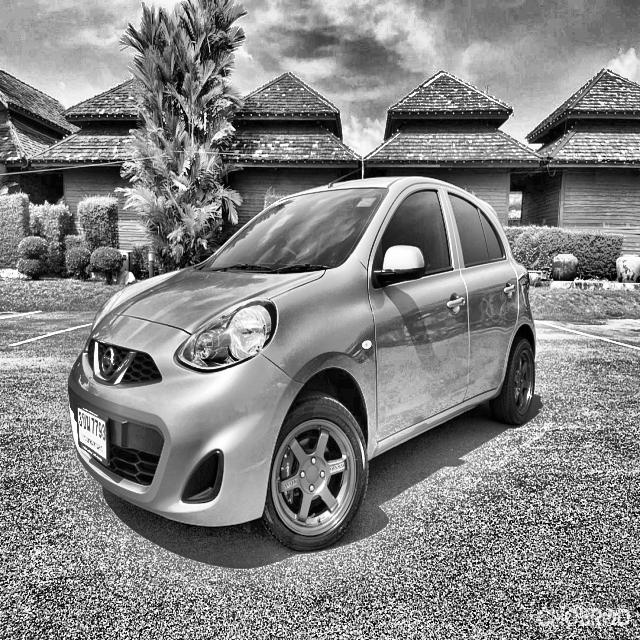license-plate: (71, 403, 113, 467)
